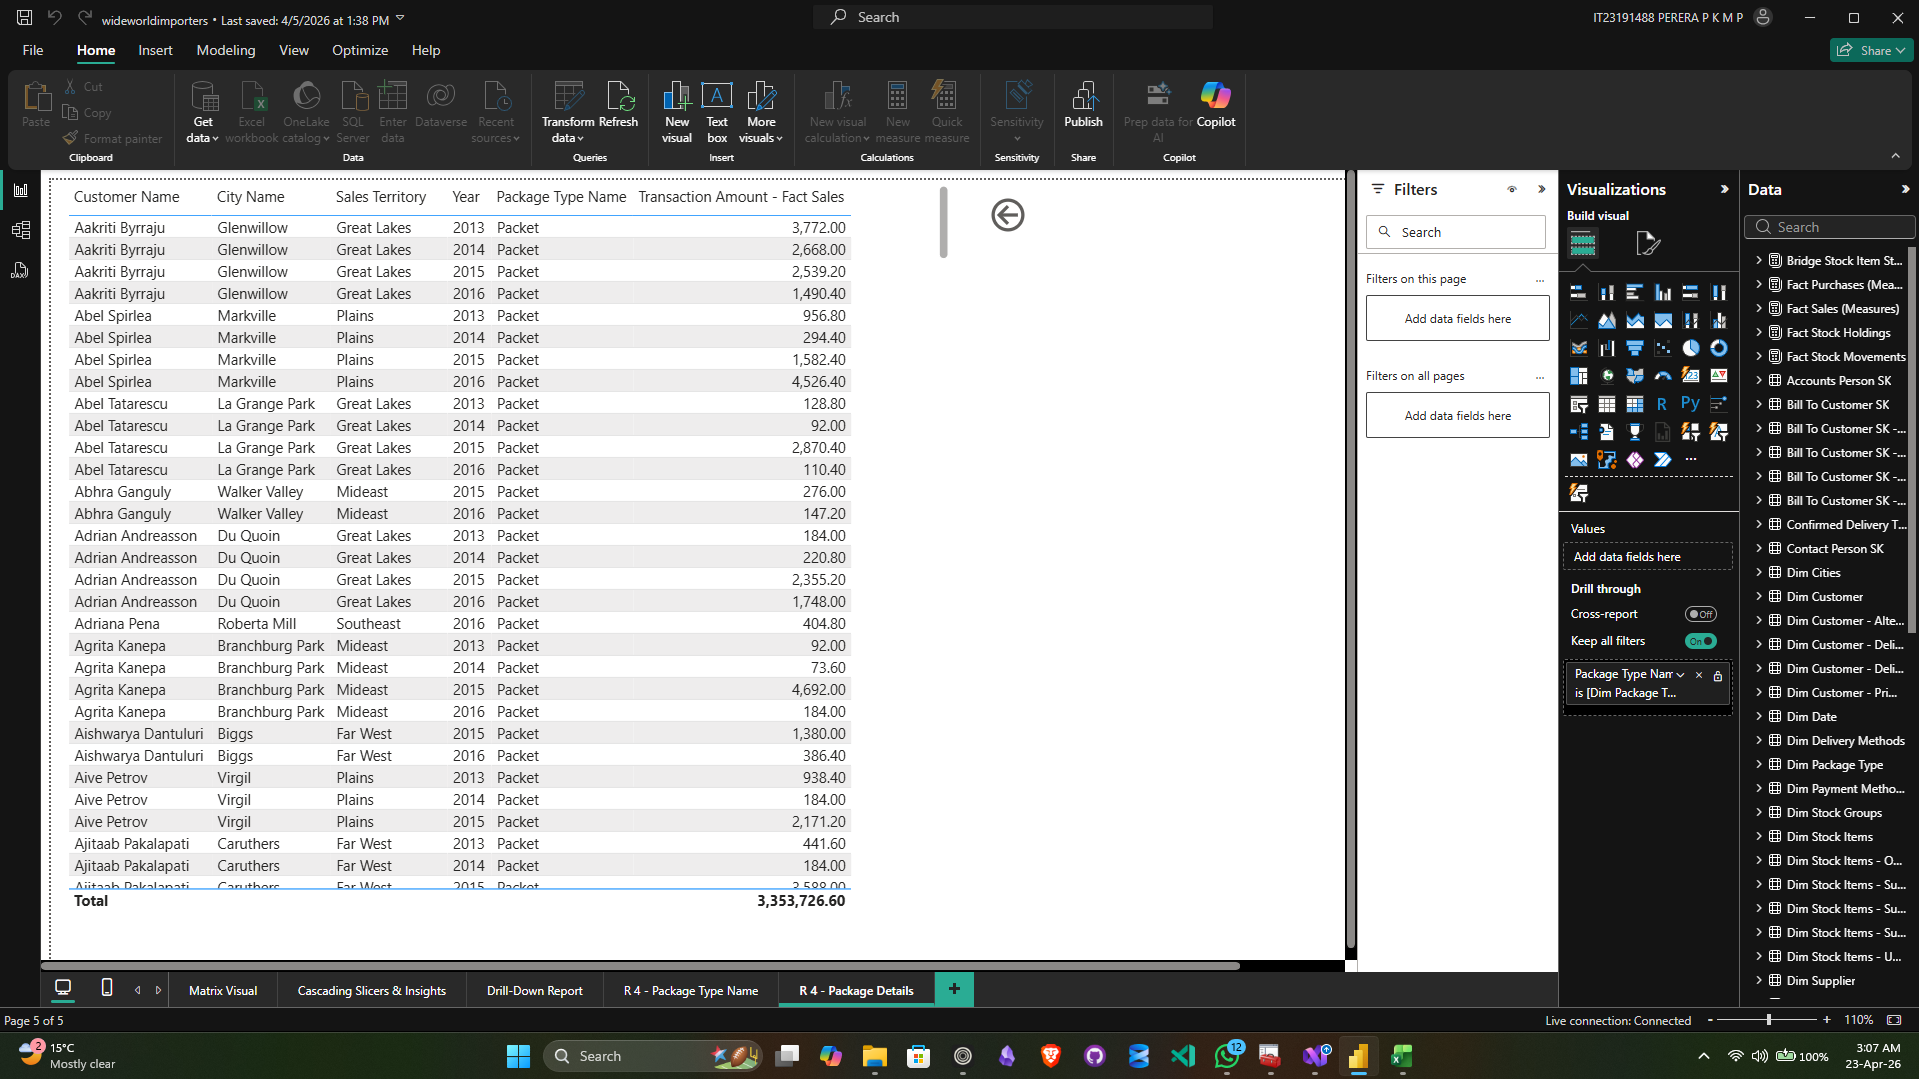

The dashboard page shown, as its layout file describes it:
{"tool":"powerbi","page":{"name":"R 4 - Package Details","canvas":[1280,720],"ordinal":4},"visuals":[{"type":"tableEx","fields":{"Values":["Dim Customer.Customer Name","Dim Cities.City Name","Dim Cities.Sales Territory","Order Date SK.Year","Dim Package Type.Package Type Name","Fact Sales (Measures).Transaction Amount - Fact Sales"]},"box":[10,0,811.4,668.6],"z":0},{"type":"actionButton","box":[850,12.2,100,40],"z":1000}]}

Visuals, with their boxes on the page's 1280x720 design canvas (x1, y1, x2, y2). These are canvas units, not pixel positions in the 1919x1079 screenshot, which may show the page scaled, cropped or inside an application window:
tableEx - Dim Customer.Customer Name x Dim Cities.City Name: Rect(10, 0, 821, 669)
actionButton: Rect(850, 12, 950, 52)
